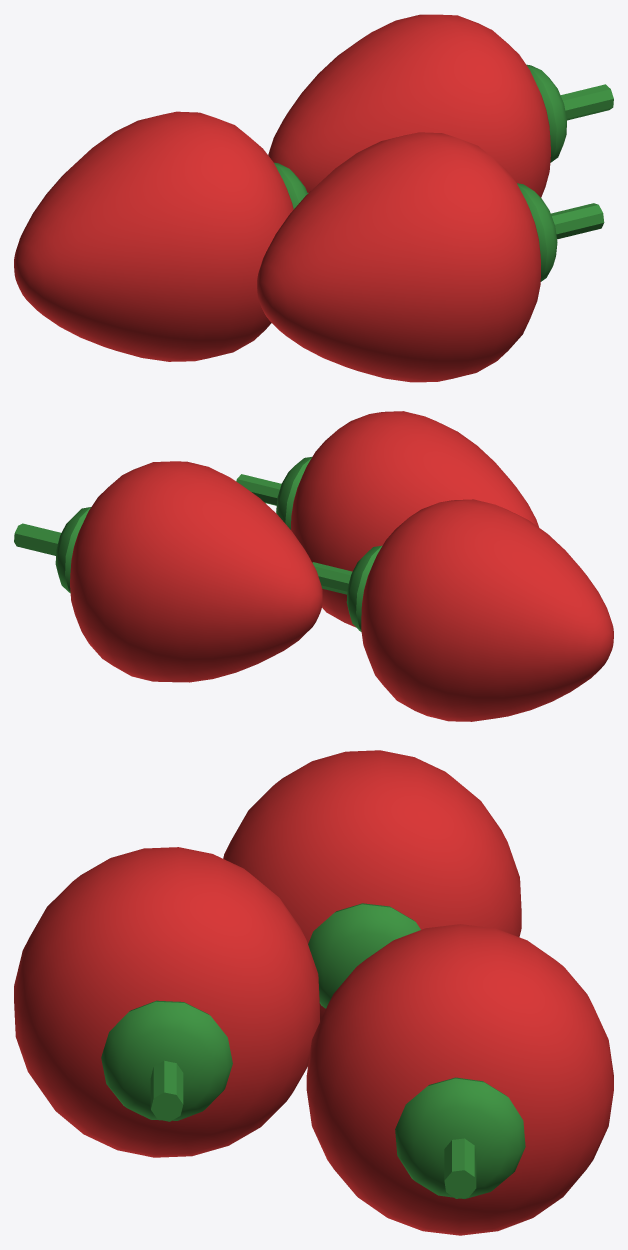
Rendered from Strawberries.fbx.
The picture shows the model from 3 angles, top to bottom: view 1: azimuth 30°, elevation 25°; view 2: azimuth 150°, elevation 25°; view 3: azimuth 270°, elevation 25°; orthographic projection. The views are drawn at different scales.
Visible parts, largest first — view 1: Strawberries; view 2: Strawberries; view 3: Strawberries.
Part boxes in pixels (box(x1,y1,x2,y2)): Strawberries: box(14, 14, 613, 382); Strawberries: box(14, 411, 613, 721); Strawberries: box(14, 750, 613, 1235).
Size of the model in its own units: 0.097 by 0.0335 by 0.0655.
